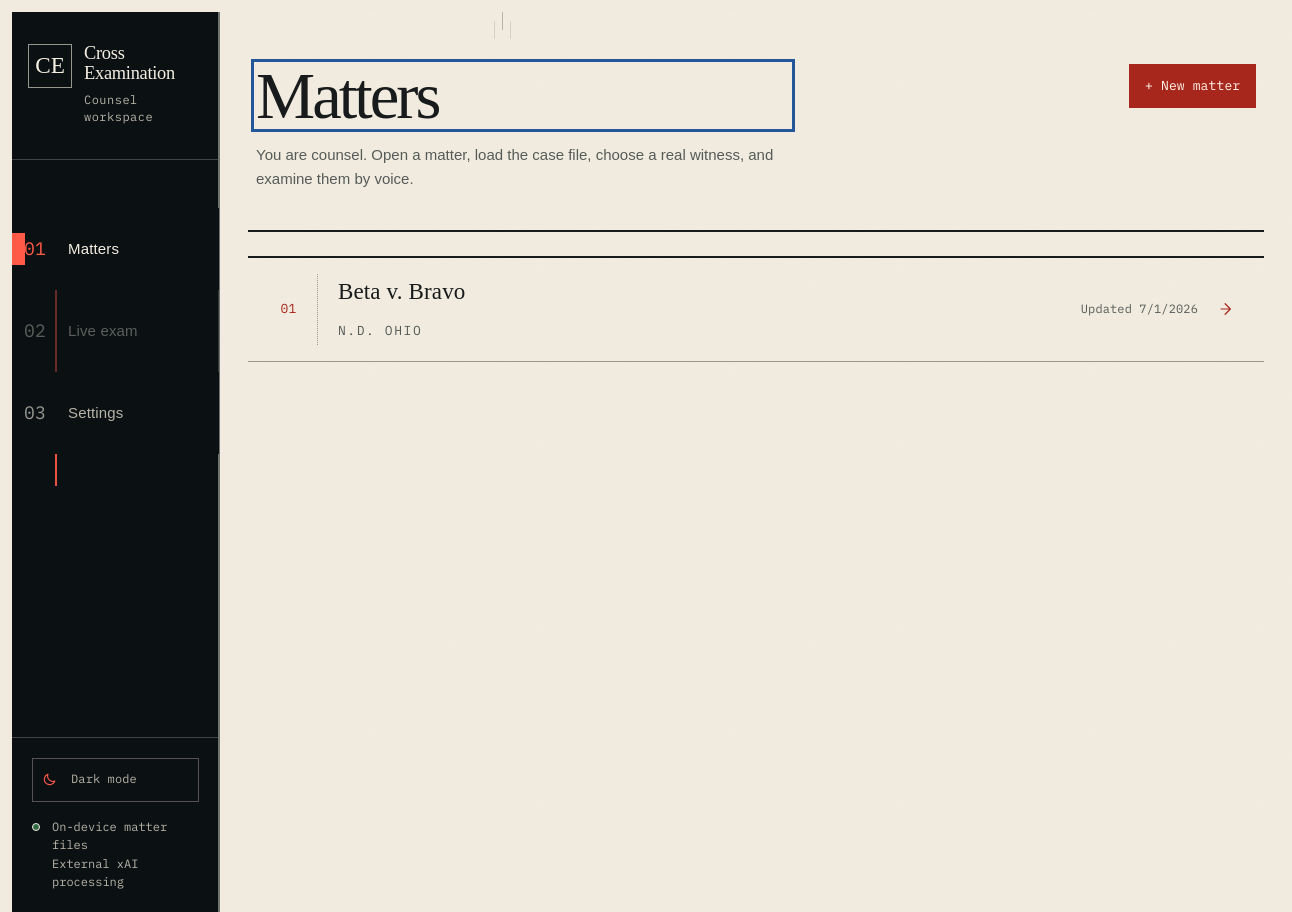
Test: App async ownership › keeps a terminal-event session refresh from overwriting a newer detail refresh
The width and height of the screenshot is (1292, 912).
Click the button "01 Beta v. Bravo N.D. Ohio Updated 7/1/2026". click: (289, 310)
box: [248,258,1264,362]
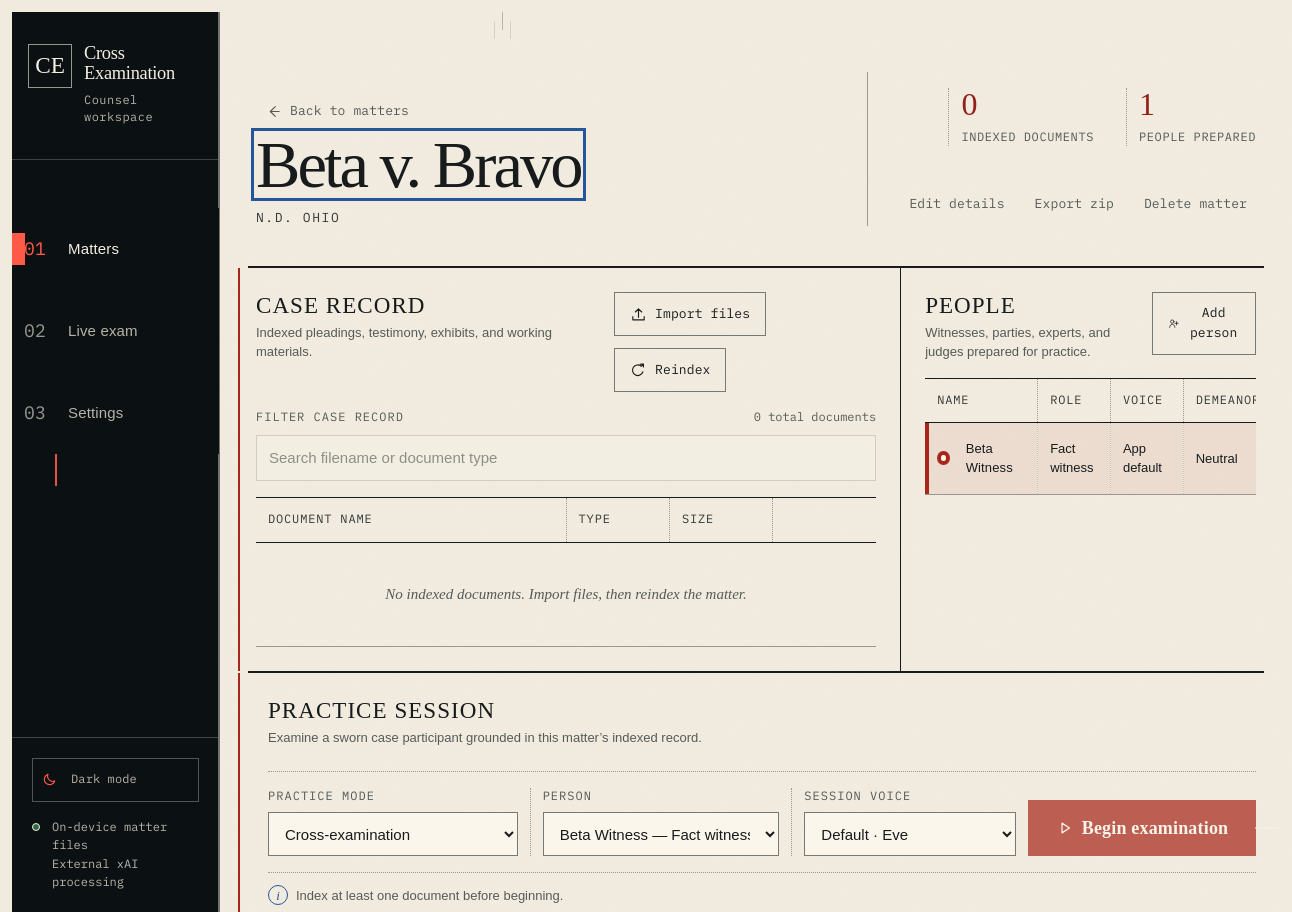
Expected: the heading "Beta v. Bravo" is shown, [256,133,580,196]
Click the button "03 Settings". click: (116, 413)
box: [12,372,219,454]
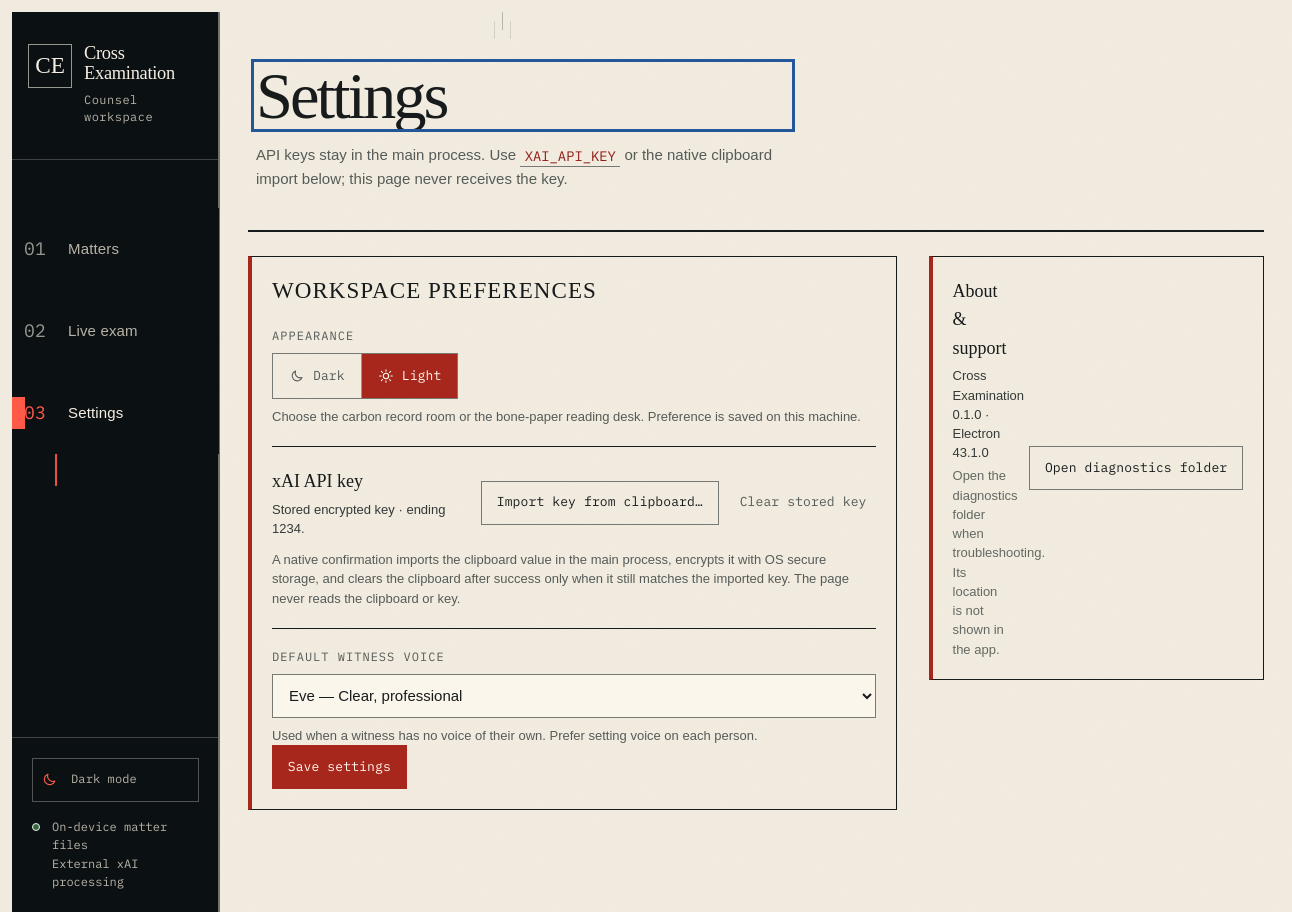
Expected: the heading "Settings" is shown, [256,59,446,132]
Click the button "01 Matters". click: (116, 249)
box: [12,208,219,290]
(page scrolled)
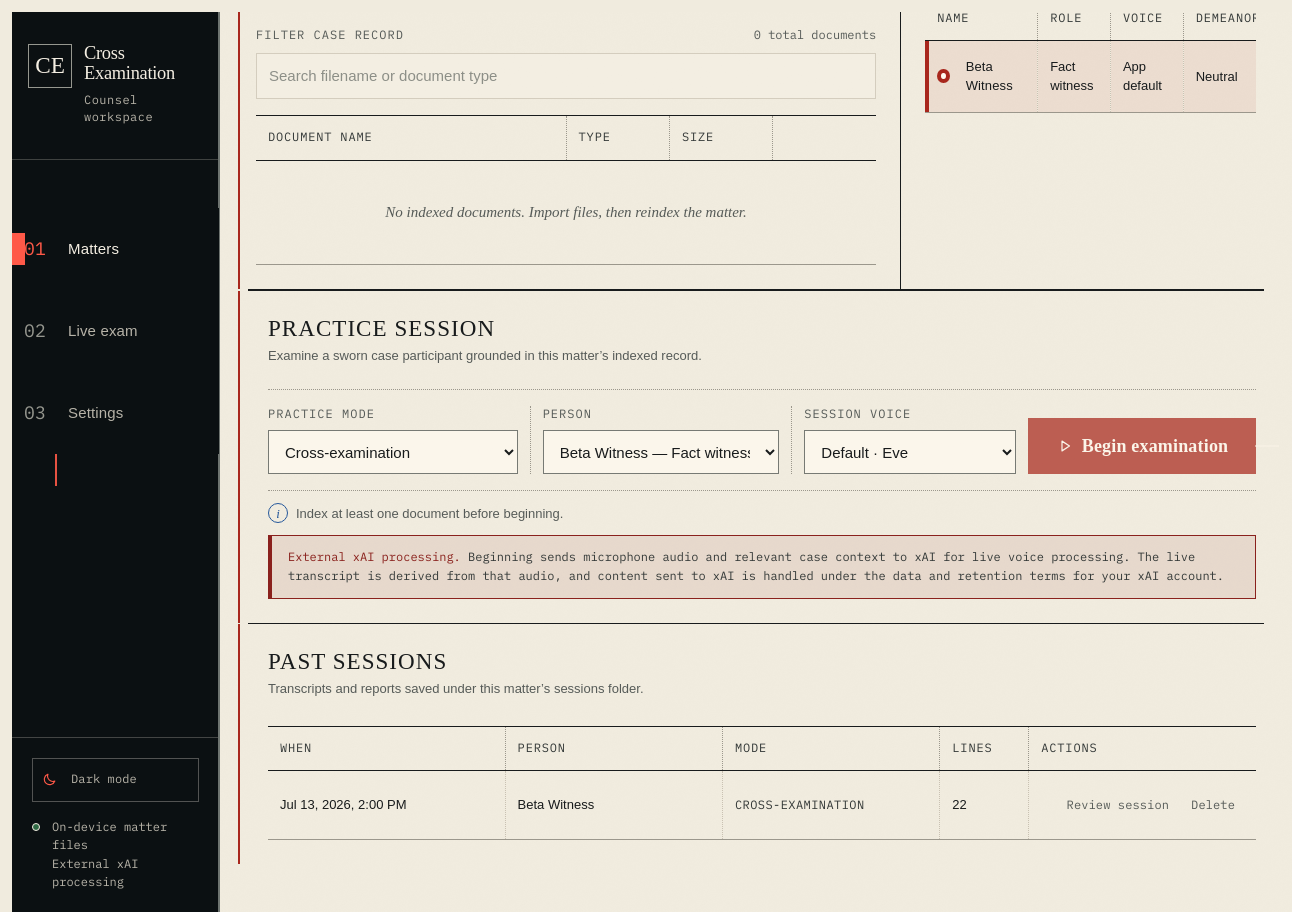
Expected: the text "22" is shown, [940,771,1029,840]
